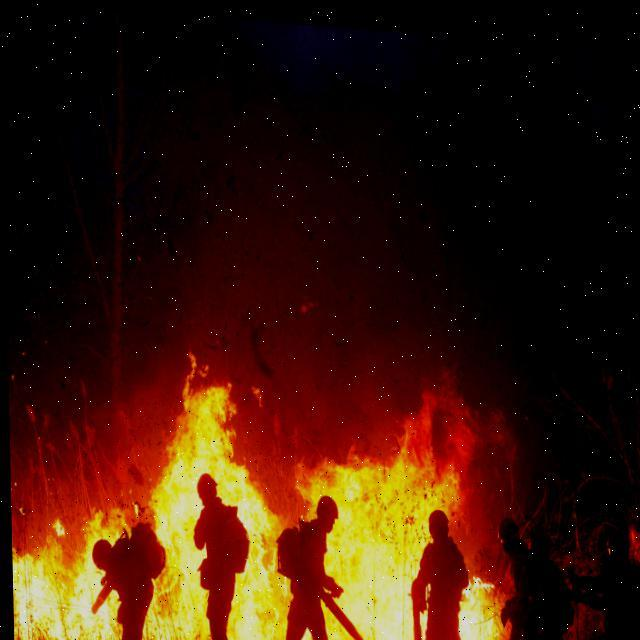Fire: (5, 333, 507, 639)
